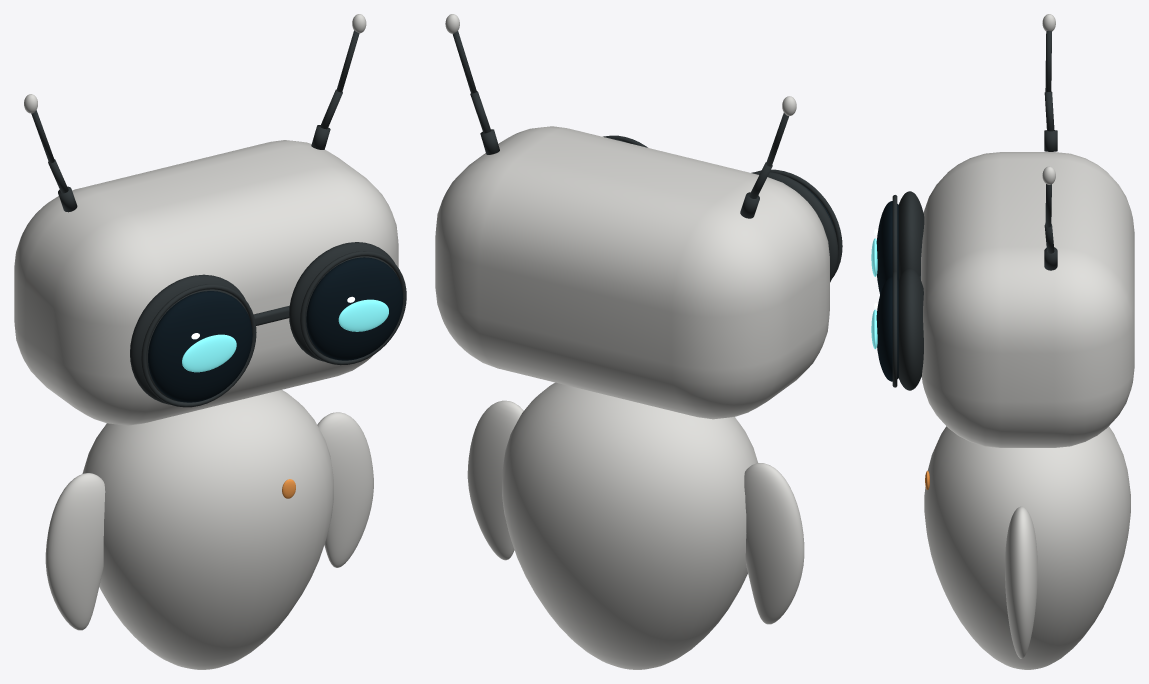
File: pip.glb
The picture shows the model from 3 angles, left to right: view 1: azimuth 30°, elevation 25°; view 2: azimuth 150°, elevation 25°; view 3: azimuth 270°, elevation 25°; orthographic projection. The views are drawn at different scales.
Parts seen in each view (by area): view 1: Pebble head shell, Continuous tapered shell, Convex optical lens L, Sculpted floating flipper L, Convex optical lens R, Sculpted floating flipper R, Lens housing L, Lens housing R, Lens bevel L, Lens bevel R, Soft luminous pupil L, Soft luminous pupil R; view 2: Pebble head shell, Continuous tapered shell, Sculpted floating flipper L, Sculpted floating flipper R, Lens housing L, Lens bevel L; view 3: Pebble head shell, Continuous tapered shell, Sculpted floating flipper R, Lens housing R, Lens housing L, Convex optical lens R, Convex optical lens L, Lens bevel R, Lens bevel L.
Boxes of the visible parts, bbox=[...] form: Pebble head shell: bbox=[14, 140, 398, 425]; Continuous tapered shell: bbox=[82, 390, 333, 669]; Convex optical lens L: bbox=[148, 291, 252, 402]; Sculpted floating flipper L: bbox=[45, 473, 105, 630]; Convex optical lens R: bbox=[306, 257, 403, 360]; Sculpted floating flipper R: bbox=[317, 412, 373, 567]; Lens housing L: bbox=[130, 274, 247, 404]; Lens housing R: bbox=[289, 242, 395, 361]; Lens bevel L: bbox=[141, 284, 256, 407]; Lens bevel R: bbox=[300, 251, 406, 365]; Soft luminous pupil L: bbox=[182, 334, 236, 372]; Soft luminous pupil R: bbox=[338, 299, 388, 331]; Pebble head shell: bbox=[435, 126, 829, 419]; Continuous tapered shell: bbox=[502, 382, 757, 669]; Sculpted floating flipper L: bbox=[744, 463, 804, 624]; Sculpted floating flipper R: bbox=[467, 400, 523, 560]; Lens housing L: bbox=[751, 171, 838, 282]; Lens bevel L: bbox=[756, 169, 842, 276]; Pebble head shell: bbox=[921, 152, 1134, 447]; Continuous tapered shell: bbox=[924, 426, 1130, 669]; Sculpted floating flipper R: bbox=[1005, 506, 1037, 658]; Lens housing R: bbox=[898, 268, 923, 390]; Lens housing L: bbox=[898, 191, 924, 279]; Convex optical lens R: bbox=[876, 277, 898, 381]; Convex optical lens L: bbox=[876, 201, 898, 294]; Lens bevel R: bbox=[892, 271, 897, 387]; Lens bevel L: bbox=[892, 195, 897, 272].
Bounding box in the file's own units: 0.886 × 1.5 × 0.623.
